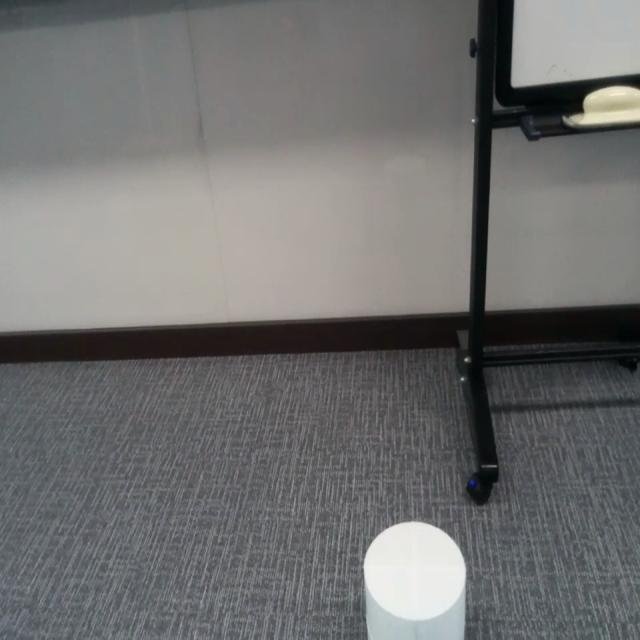cylinder: (362, 521, 467, 636)
